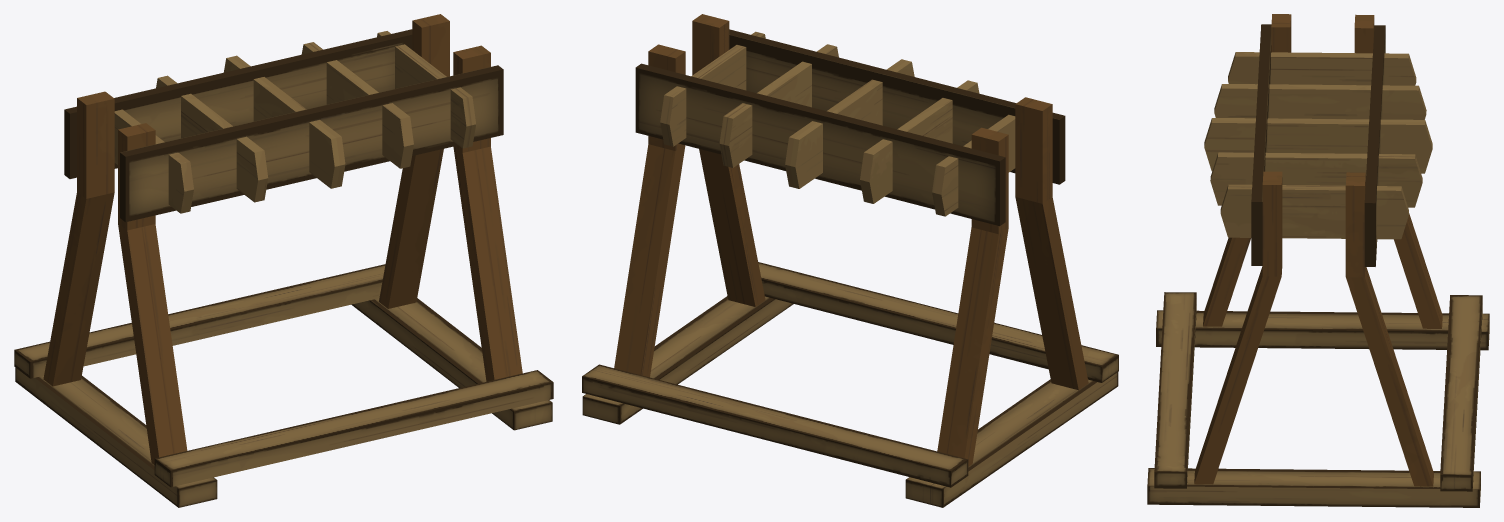
The model's file is WeaponRack.fbx.
3 renders of one model, left to right at view 1: azimuth 30°, elevation 25°; view 2: azimuth 150°, elevation 25°; view 3: azimuth 270°, elevation 25°, orthographic. The views are drawn at different scales.
Visible parts, largest first — view 1: WeaponRack; view 2: WeaponRack; view 3: WeaponRack.
Boxes of the visible parts, x1,y1,x2,y2 form: WeaponRack: (14, 14, 553, 507); WeaponRack: (582, 14, 1118, 507); WeaponRack: (1147, 14, 1489, 507).
Bounding box in the file's own units: 3886 × 3151 × 3069.
